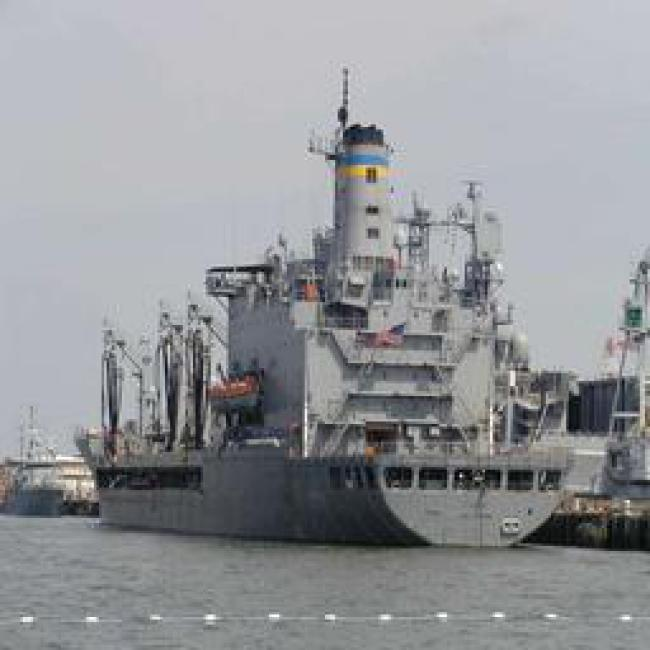Ship: (53, 140, 578, 547)
